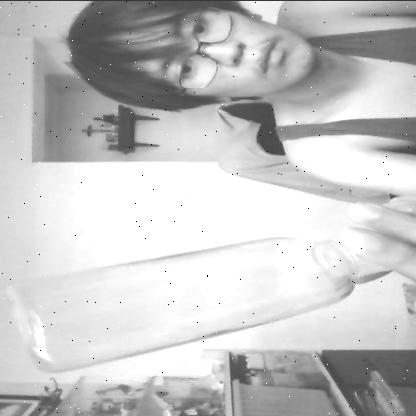Plastic Bottle: (6, 231, 400, 377)
